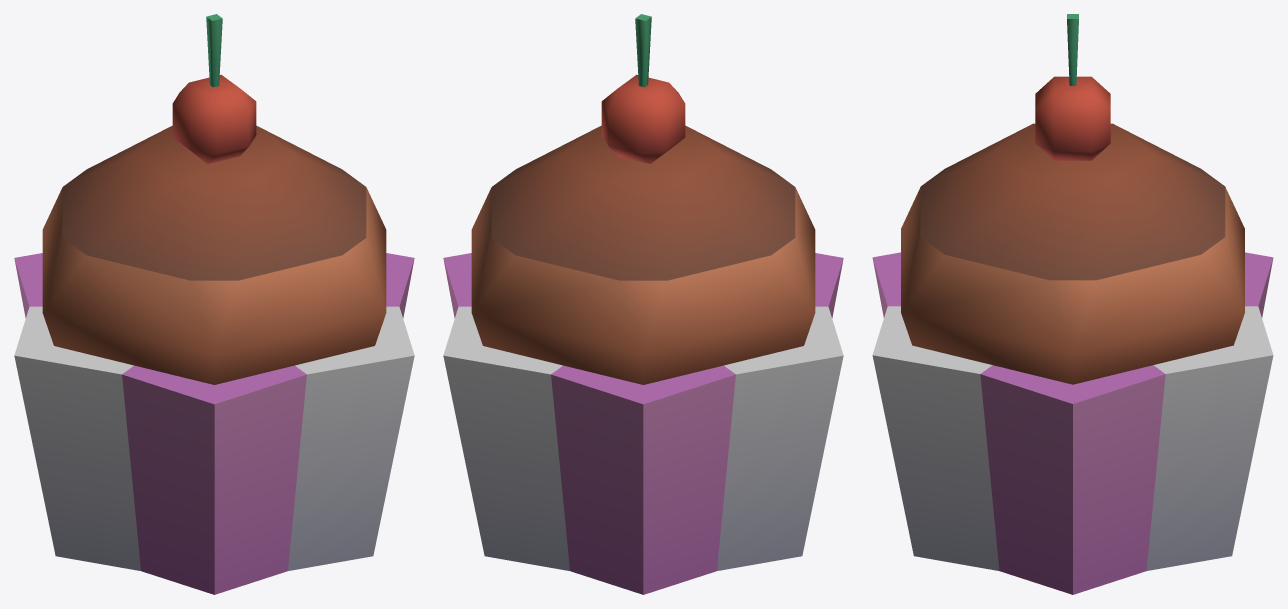
The model's file is cupcake.glb.
3 renders of one model, left to right at view 1: azimuth 30°, elevation 25°; view 2: azimuth 150°, elevation 25°; view 3: azimuth 270°, elevation 25°, orthographic.
Parts seen in each view (by area): view 1: cupcake, cake, cherry; view 2: cupcake, cake, cherry; view 3: cupcake, cake, cherry.
Boxes of the visible parts, left/top/right/bottom form: cupcake: left=14, top=253, right=414, bottom=594; cake: left=42, top=125, right=386, bottom=384; cherry: left=172, top=14, right=256, bottom=163; cupcake: left=443, top=253, right=843, bottom=594; cake: left=471, top=125, right=815, bottom=384; cherry: left=601, top=14, right=685, bottom=163; cupcake: left=872, top=252, right=1273, bottom=594; cake: left=901, top=123, right=1244, bottom=384; cherry: left=1035, top=14, right=1110, bottom=160.
Bounding box in the file's own units: 0.3552 × 0.4238 × 0.3076.
